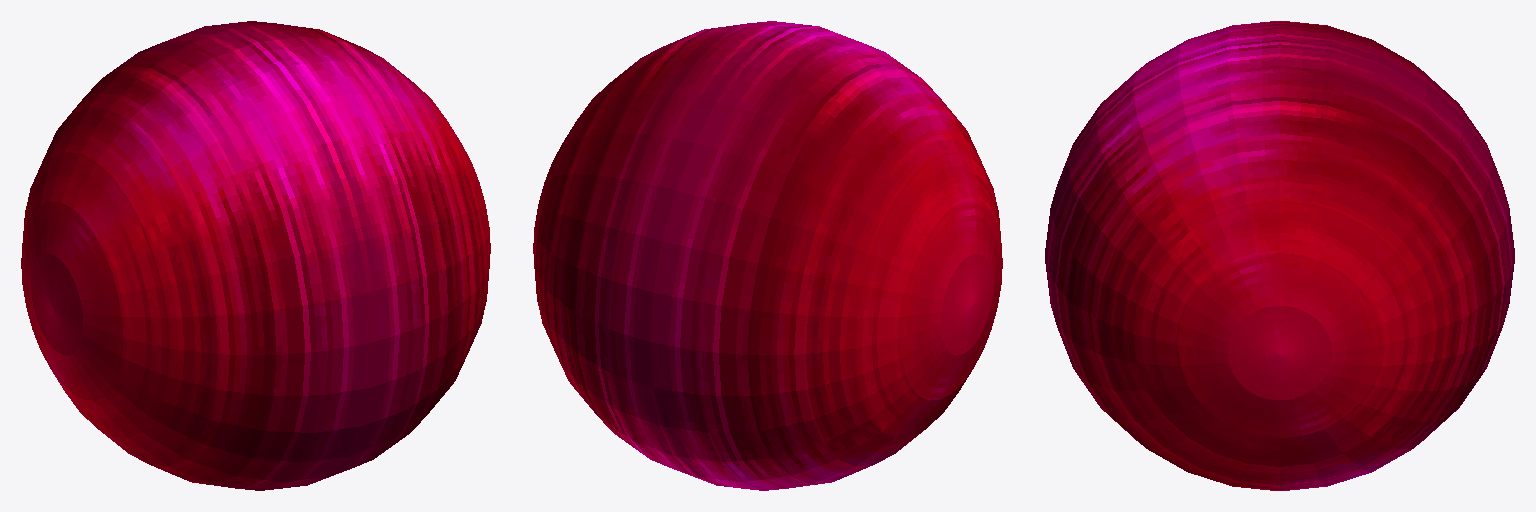
The picture shows the model from 3 angles: view 1: azimuth 30°, elevation 25°; view 2: azimuth 150°, elevation 25°; view 3: azimuth 270°, elevation 25°; orthographic projection.
Visible parts, largest first — view 1: polygon0; view 2: polygon0; view 3: polygon0.
Boxes of the visible parts, x1=… form: polygon0: x1=21, y1=21, x2=490, y2=490; polygon0: x1=533, y1=21, x2=1002, y2=490; polygon0: x1=1045, y1=21, x2=1514, y2=490.
Bounding box in the file's own units: 10.48 × 10.48 × 10.48.
1 materials, 1 textured.